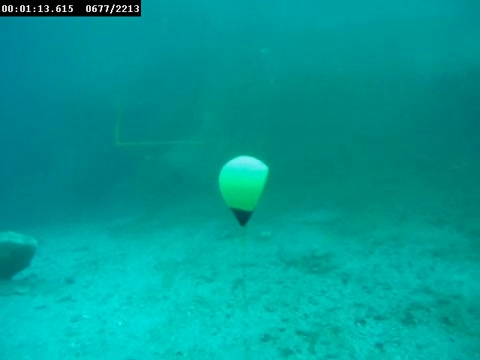buoy_green: (217, 152, 271, 229)
